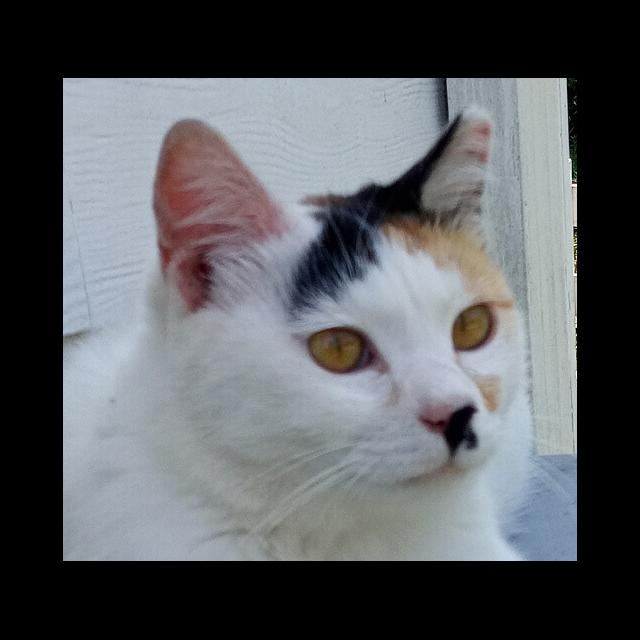animals: (141, 93, 530, 494)
